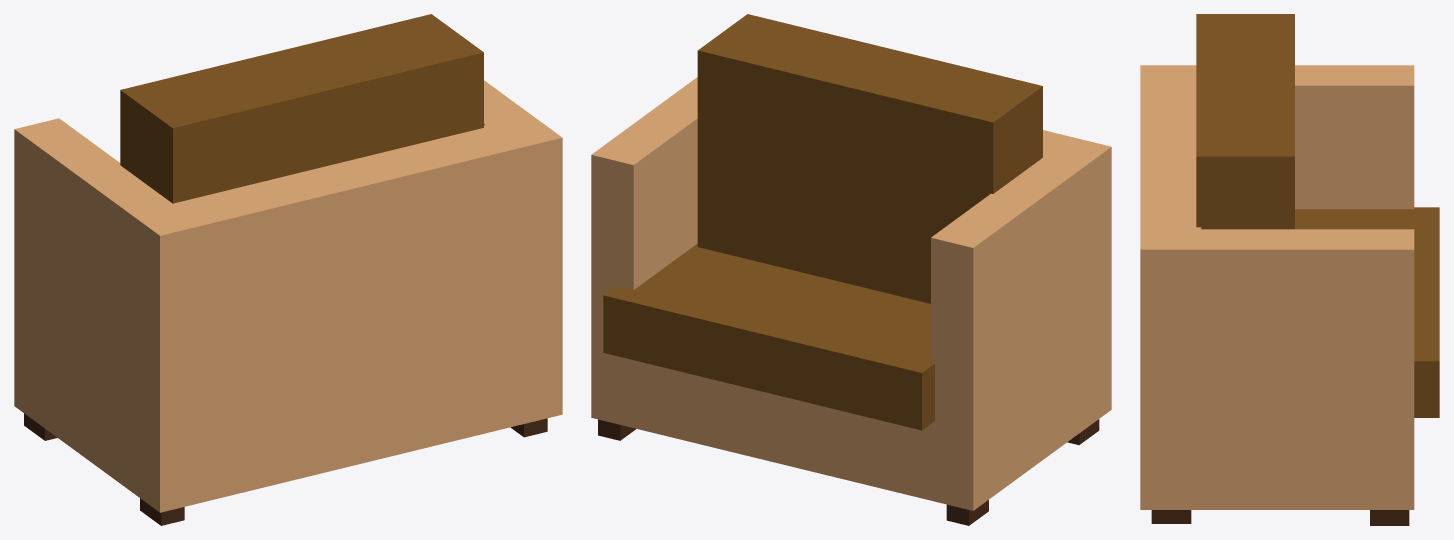
The model's file is 1 person coach.glb.
3 renders of one model, left to right at view 1: azimuth 30°, elevation 25°; view 2: azimuth 150°, elevation 25°; view 3: azimuth 270°, elevation 25°, orthographic. The views are drawn at different scales.
Visible parts, largest first — view 1: Cube, Cube.006; view 2: Cube, Cube.006, Cube.005, Cube.001; view 3: Cube, Cube.006, Cube.005, Cube.004, Cube.002.
Boxes of the visible parts, <box> form: Cube: <box>14,80,562,512</box>; Cube.006: <box>120,14,483,203</box>; Cube: <box>591,77,1111,510</box>; Cube.006: <box>697,14,1042,303</box>; Cube.005: <box>603,243,934,430</box>; Cube.001: <box>946,500,988,525</box>; Cube: <box>1140,65,1414,509</box>; Cube.006: <box>1196,14,1294,229</box>; Cube.005: <box>1295,207,1439,417</box>; Cube.004: <box>1370,510,1409,525</box>; Cube.002: <box>1151,510,1191,523</box>.
Size of the model in its own units: 3.19 by 2.81 by 2.19.
